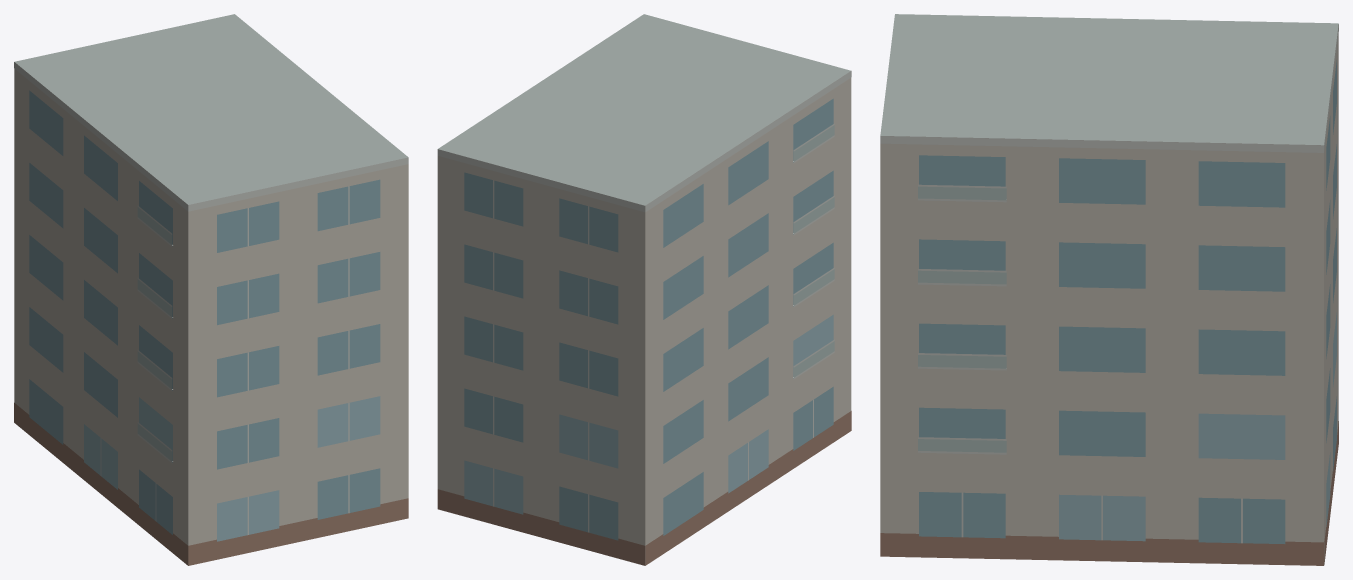
The model's file is survey-upis-32832787.glb.
3 views of the same model, side by side, from view 1: azimuth 30°, elevation 25°; view 2: azimuth 150°, elevation 25°; view 3: azimuth 270°, elevation 25° (orthographic). The views are drawn at different scales.
Visible parts, largest first — view 1: survey-upis-32832787.tmp; view 2: survey-upis-32832787.tmp; view 3: survey-upis-32832787.tmp.
Boxes of the visible parts, left/top/right/bottom form: survey-upis-32832787.tmp: left=14, top=14, right=408, bottom=565; survey-upis-32832787.tmp: left=437, top=14, right=851, bottom=565; survey-upis-32832787.tmp: left=880, top=14, right=1338, bottom=565.
Bounding box in the file's own units: 8.84 × 13.2 × 13.05.
